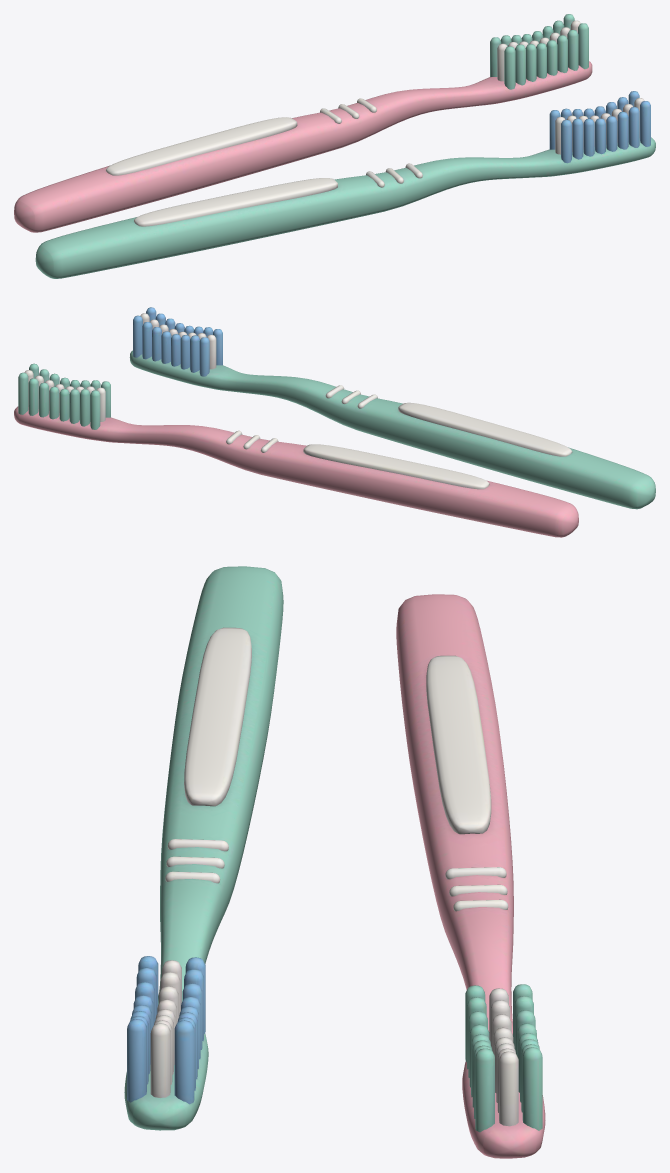
Rendered from toothbrush.glb.
The picture shows the model from 3 angles, top to bottom: view 1: azimuth 30°, elevation 25°; view 2: azimuth 150°, elevation 25°; view 3: azimuth 270°, elevation 25°; orthographic projection. The views are drawn at different scales.
Visible parts, largest first — view 1: toothbrush_body; view 2: toothbrush_body; view 3: toothbrush_body.
Boxes of the visible parts, bbox=[...] form: toothbrush_body: bbox=[14, 14, 655, 278]; toothbrush_body: bbox=[14, 307, 655, 537]; toothbrush_body: bbox=[124, 566, 545, 1158].
Size of the model in its own units: 0.1996 by 0.0177 by 0.0638.
Materials: 1 (1 with a texture image).
